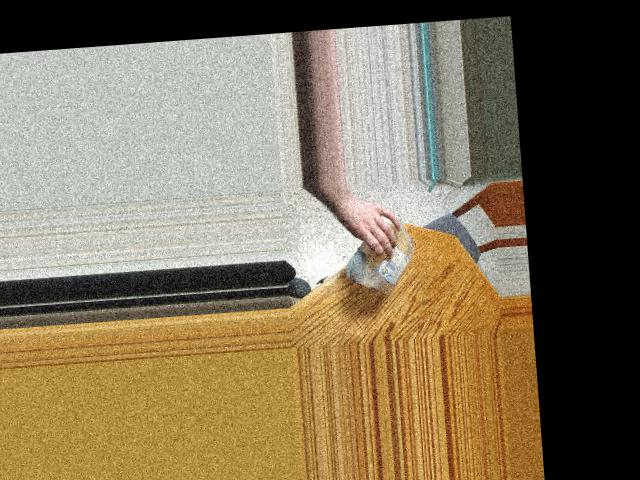cheese: (351, 209, 422, 298)
